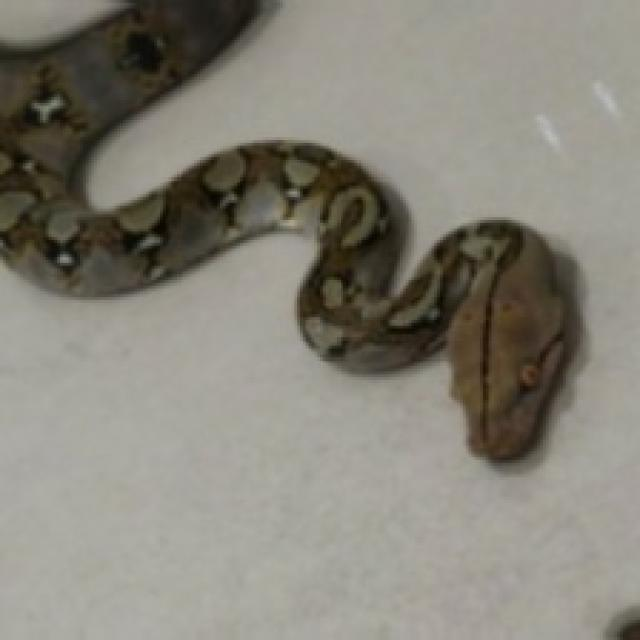reticulated python: (0, 0, 563, 457)
